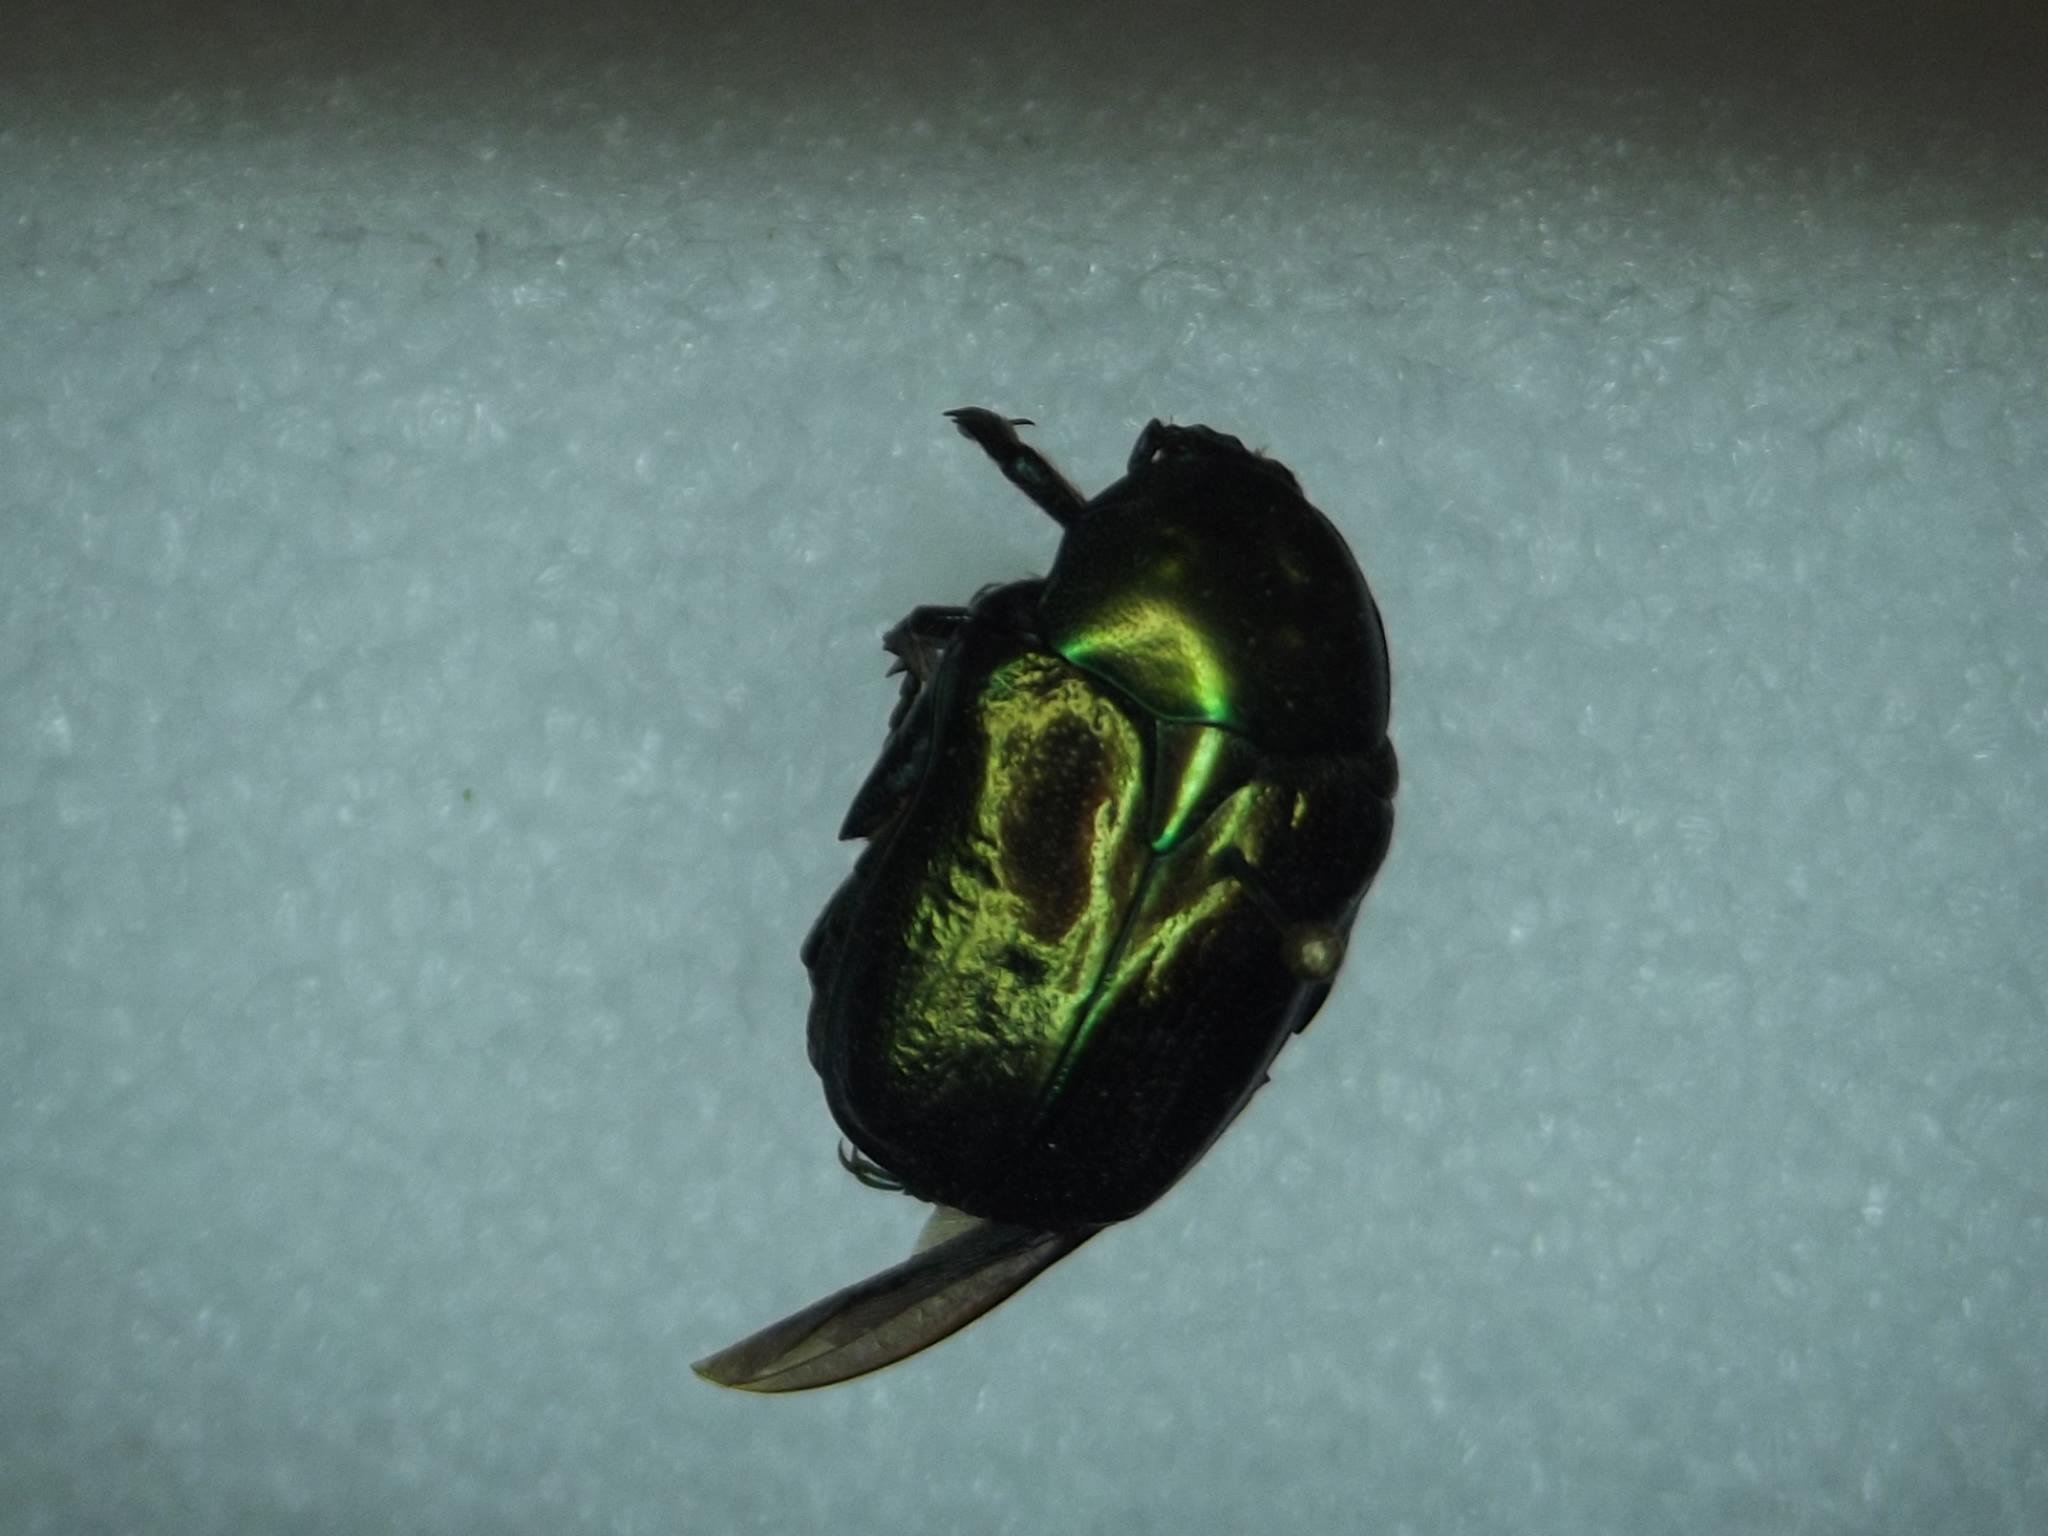Protaetia_angustata_angustata: (681, 374, 1409, 1396)
